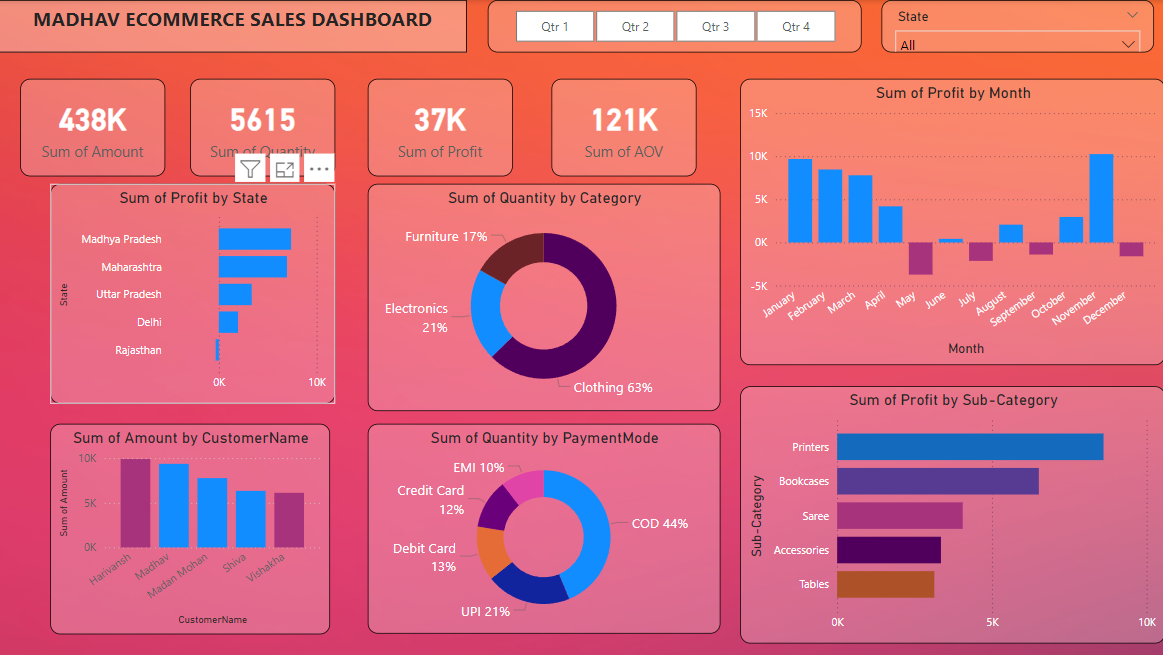

What the dashboard file says about the page in this screenshot:
{"tool":"powerbi","page":{"name":"Page 1","canvas":[1280,720],"ordinal":0},"visuals":[{"type":"textbox","box":[0,0,513.2,57.6],"z":0},{"type":"clusteredColumnChart","fields":{"Y":["Details.Profit"],"Category":["Orders.Order Date.Variation.Date Hierarchy.Month"]},"box":[813.7,86.4,466.6,314.2],"z":1000},{"type":"barChart","fields":{"Category":["Details.Sub-Category"],"Y":["Details.Profit"]},"box":[813.7,424,466.6,282.7],"z":2000},{"type":"donutChart","fields":{"Category":["Details.Category"],"Y":["Details.Quantity"]},"box":[404.8,201.7,387,249.7],"z":3000},{"type":"donutChart","fields":{"Y":["Details.Quantity"],"Category":["Details.PaymentMode"]},"box":[404.8,465.2,387,230.5],"z":4000},{"type":"card","fields":{"Values":["Details.AOV"]},"box":[606.5,86.4,159.2,107],"z":5000},{"type":"card","fields":{"Values":["Details.Profit"]},"box":[404.8,86.4,159.2,107],"z":6000},{"type":"card","fields":{"Values":["Details.Quantity"]},"box":[209.9,86.4,159.2,107],"z":7000},{"type":"card","fields":{"Values":["Details.Amount"]},"box":[23.3,86.4,159.2,107],"z":8000},{"type":"barChart","fields":{"Y":["Details.Profit"],"Category":["Orders.State"]},"box":[56.3,201.7,312.9,241.5],"z":9000},{"type":"columnChart","fields":{"Y":["Details.Amount"],"Category":["Orders.CustomerName"]},"box":[56,465,307,231],"z":10000},{"type":"slicer","fields":{"Values":["Orders.Order Date.Variation.Date Hierarchy.Quarter"]},"box":[536.5,0,410.3,57.6],"z":11000},{"type":"slicer","fields":{"Values":["Orders.State"]},"box":[968.8,0,299.1,57.6],"z":12000}]}

Visuals, with their boxes in screenshot pixels (x1, y1, x2, y2), scaled from the page's 1280x720 canvas onto the 1163x655 screenshot:
textbox: <bbox>0, 0, 466, 52</bbox>
clusteredColumnChart - Details.Profit x Orders.Order Date.Variation.Date Hierarchy.Month: <bbox>739, 79, 1162, 364</bbox>
barChart - Details.Sub-Category x Details.Profit: <bbox>739, 386, 1162, 643</bbox>
donutChart - Details.Category x Details.Quantity: <bbox>368, 183, 719, 411</bbox>
donutChart - Details.Quantity x Details.PaymentMode: <bbox>368, 423, 719, 633</bbox>
card - Details.AOV: <bbox>551, 79, 696, 176</bbox>
card - Details.Profit: <bbox>368, 79, 512, 176</bbox>
card - Details.Quantity: <bbox>191, 79, 335, 176</bbox>
card - Details.Amount: <bbox>21, 79, 166, 176</bbox>
barChart - Details.Profit x Orders.State: <bbox>51, 183, 335, 403</bbox>
columnChart - Details.Amount x Orders.CustomerName: <bbox>51, 423, 330, 633</bbox>
slicer - Orders.Order Date.Variation.Date Hierarchy.Quarter: <bbox>487, 0, 860, 52</bbox>
slicer - Orders.State: <bbox>880, 0, 1152, 52</bbox>
